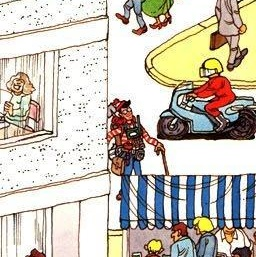waldo: (113, 97, 147, 175), (112, 96, 144, 161), (112, 98, 135, 122)
